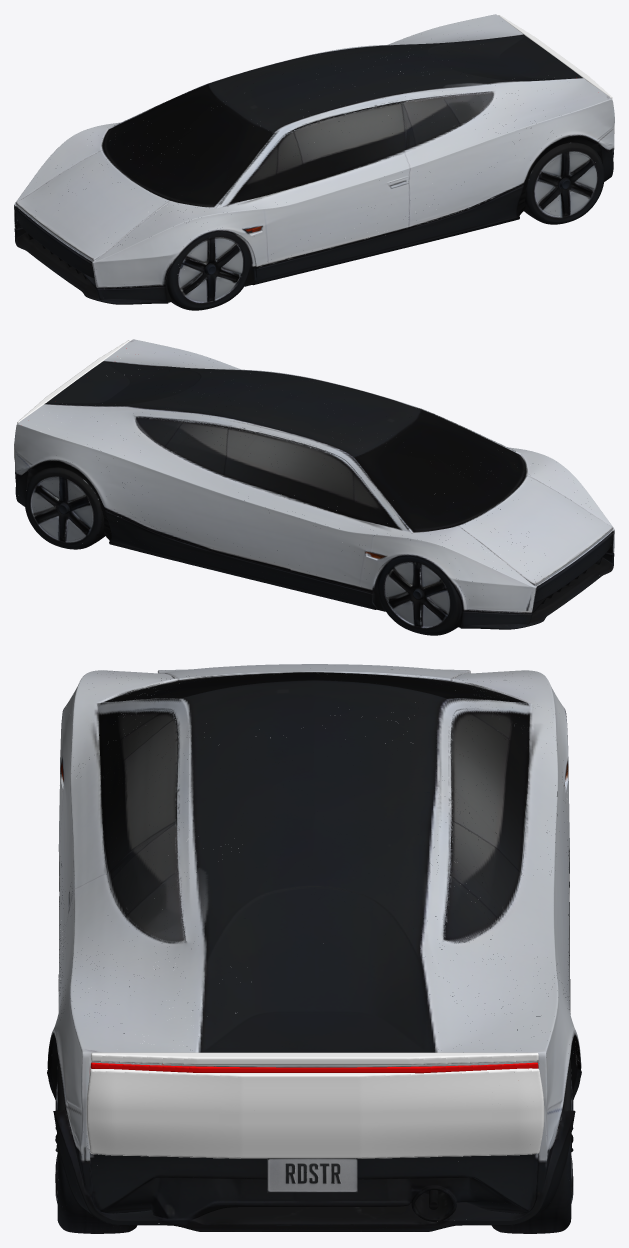
The model's file is roadster.glb.
3 renders of one model, top to bottom at view 1: azimuth 30°, elevation 25°; view 2: azimuth 150°, elevation 25°; view 3: azimuth 270°, elevation 25°, orthographic. The views are drawn at different scales.
Parts seen in each view (by area): view 1: Object_3, Object_6, Object_2, Object_5, Object_4, Object_7, Object_9; view 2: Object_3, Object_5, Object_4, Object_6, Object_2, Object_7, Object_9; view 3: Object_3, Object_4, Object_5, Object_9, Object_6, Object_2, Object_7, Object_11, Object_8.
Part boxes in pixels (x1,y1,x2,y2): Object_3: (16, 23, 614, 310); Object_6: (14, 37, 573, 309); Object_2: (31, 62, 614, 301); Object_5: (21, 16, 529, 294); Object_4: (14, 14, 598, 310); Object_7: (15, 43, 604, 302); Object_9: (498, 15, 614, 133); Object_3: (50, 380, 613, 635); Object_5: (16, 368, 607, 632); Object_4: (14, 345, 614, 629); Object_6: (15, 349, 614, 626); Object_2: (84, 339, 535, 629); Object_7: (122, 356, 614, 628); Object_9: (14, 340, 130, 460); Object_3: (62, 664, 581, 1230); Object_4: (70, 669, 581, 1231); Object_5: (104, 664, 580, 1231); Object_9: (86, 1052, 544, 1158); Object_6: (58, 667, 581, 1233); Object_2: (47, 666, 581, 1231); Object_7: (48, 670, 570, 1233); Object_11: (267, 1158, 357, 1192); Object_8: (91, 1062, 538, 1073).
Size of the model in its own units: 66.58 by 18.05 by 30.11.
Materials: 5 (5 with a texture image).
